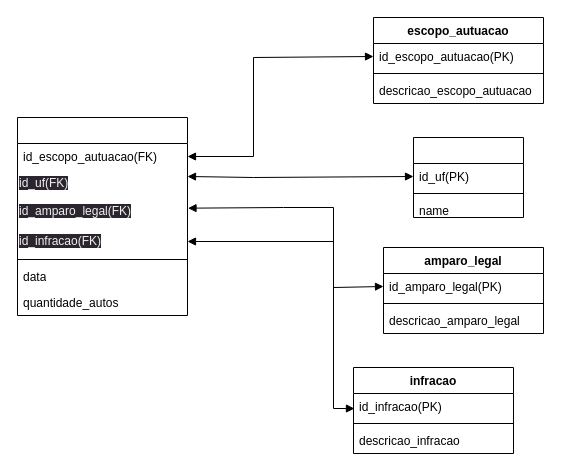
The diagram is 561 pixels wide and 474 high, and some of its shapes have lost their labels. Here are the shapes that lost their labels. From the top down, the box of each, then its label:
(412, 136, 524, 218): uf
(16, 116, 188, 316): relatorio_autuacao
